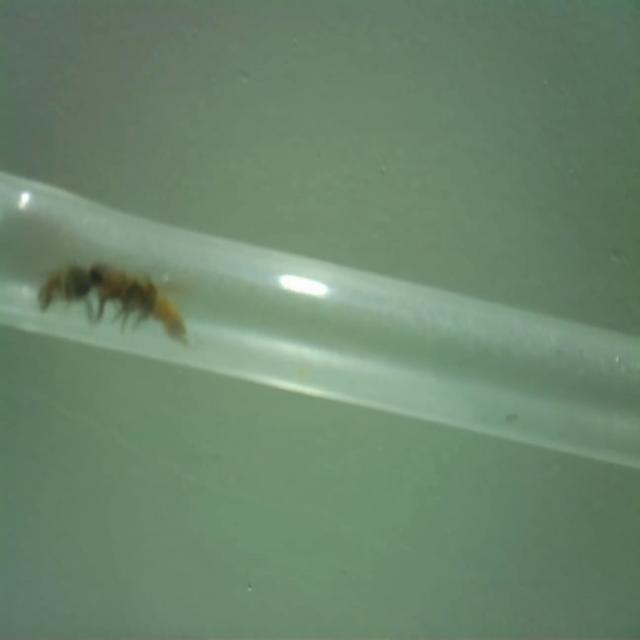Honeybee-Detection: (136, 273, 190, 346), (37, 260, 92, 317), (91, 261, 131, 317)
